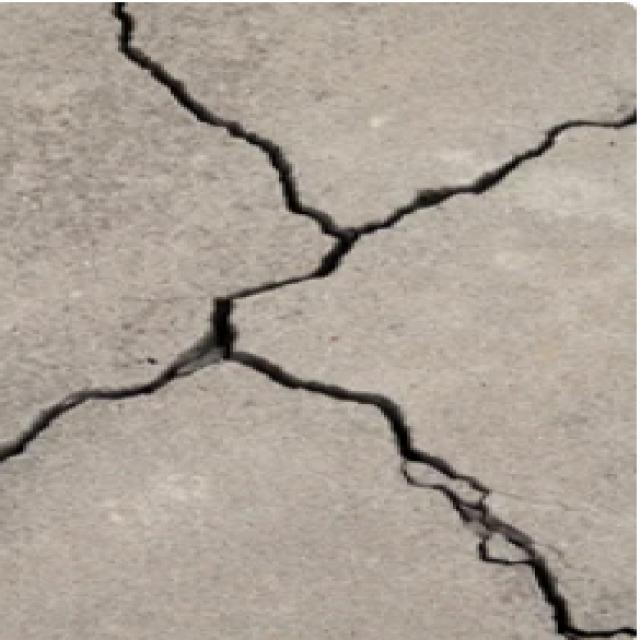branched cracks: (0, 3, 636, 639)
